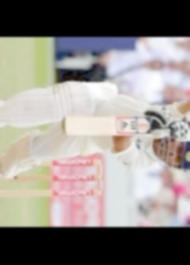batsman: (0, 80, 190, 189)
